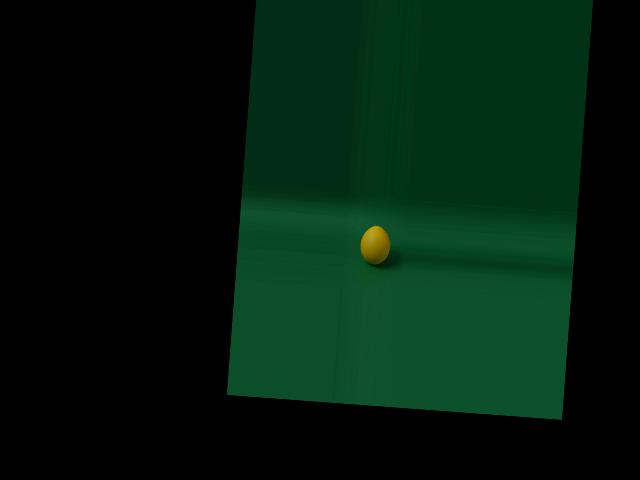egg: (358, 224, 390, 265)
